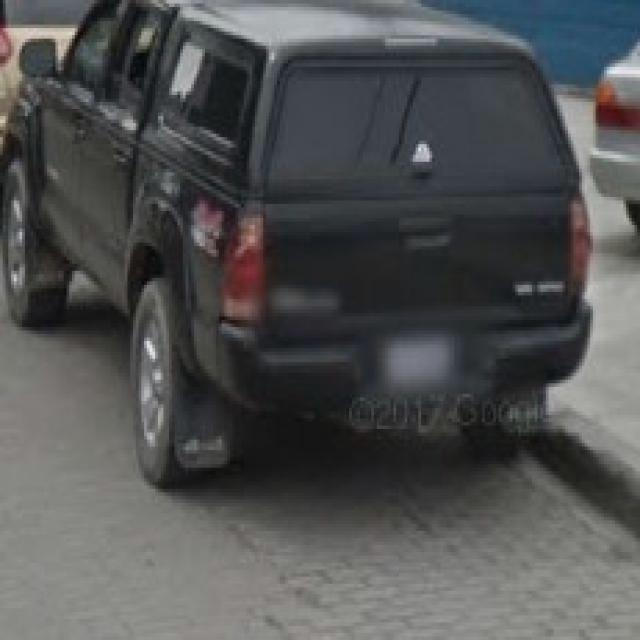Car: (4, 15, 596, 518)
